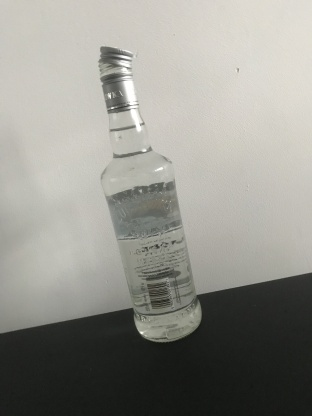nakretka: (96, 42, 141, 113)
